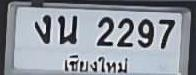2: (96, 16, 113, 45), (116, 17, 133, 46)
7: (158, 18, 174, 48)
9: (137, 18, 153, 47)
A07: (34, 14, 50, 43)
A25: (57, 14, 76, 44)
CMI: (60, 53, 131, 75)
